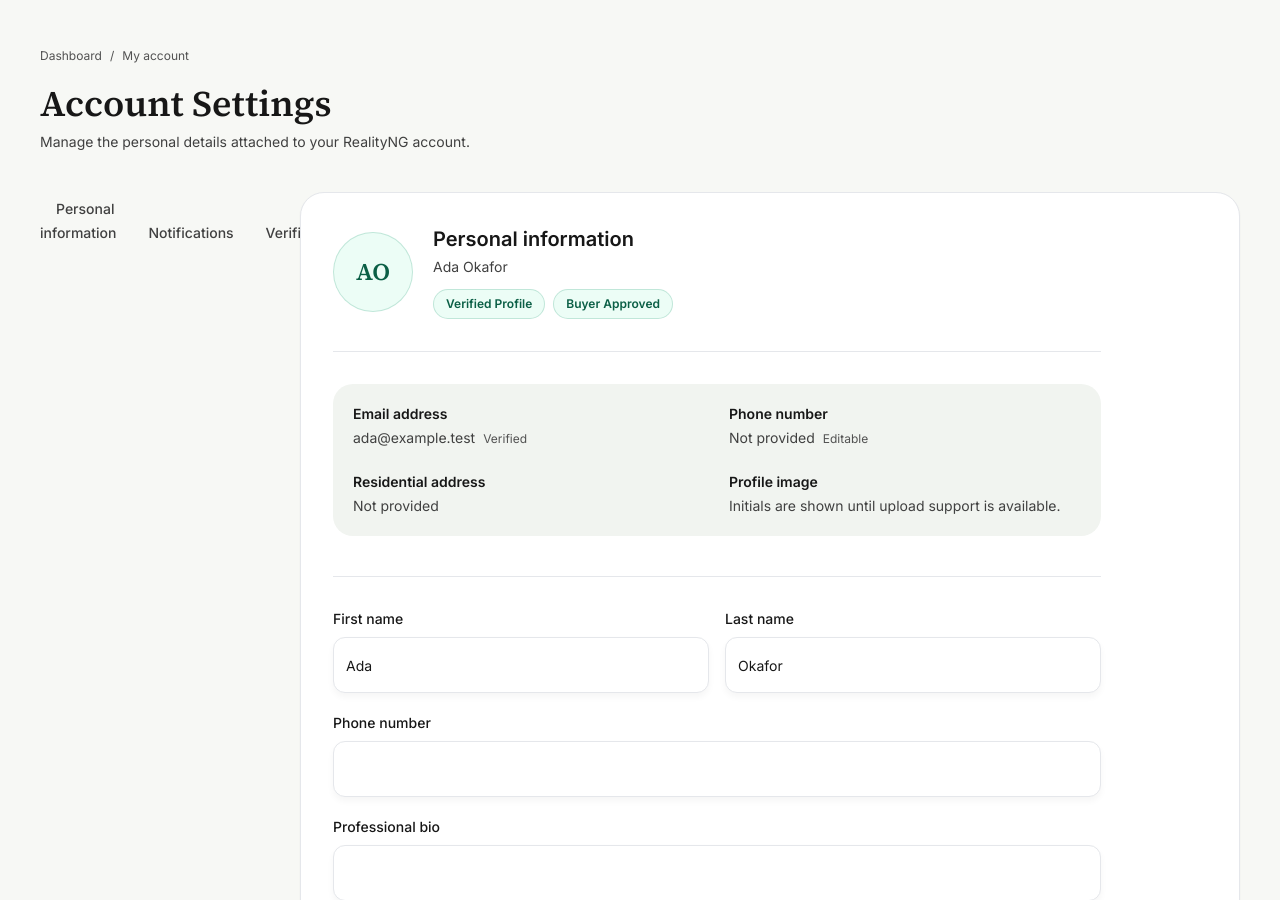
Scenario: ProfilePage › shows backend errors without discarding entered values
Type "+2348012345678" into the field labelled "Phone number".
click(717, 769); type("+2348012345678")  # box [333,741,1101,797]
(page scrolled)
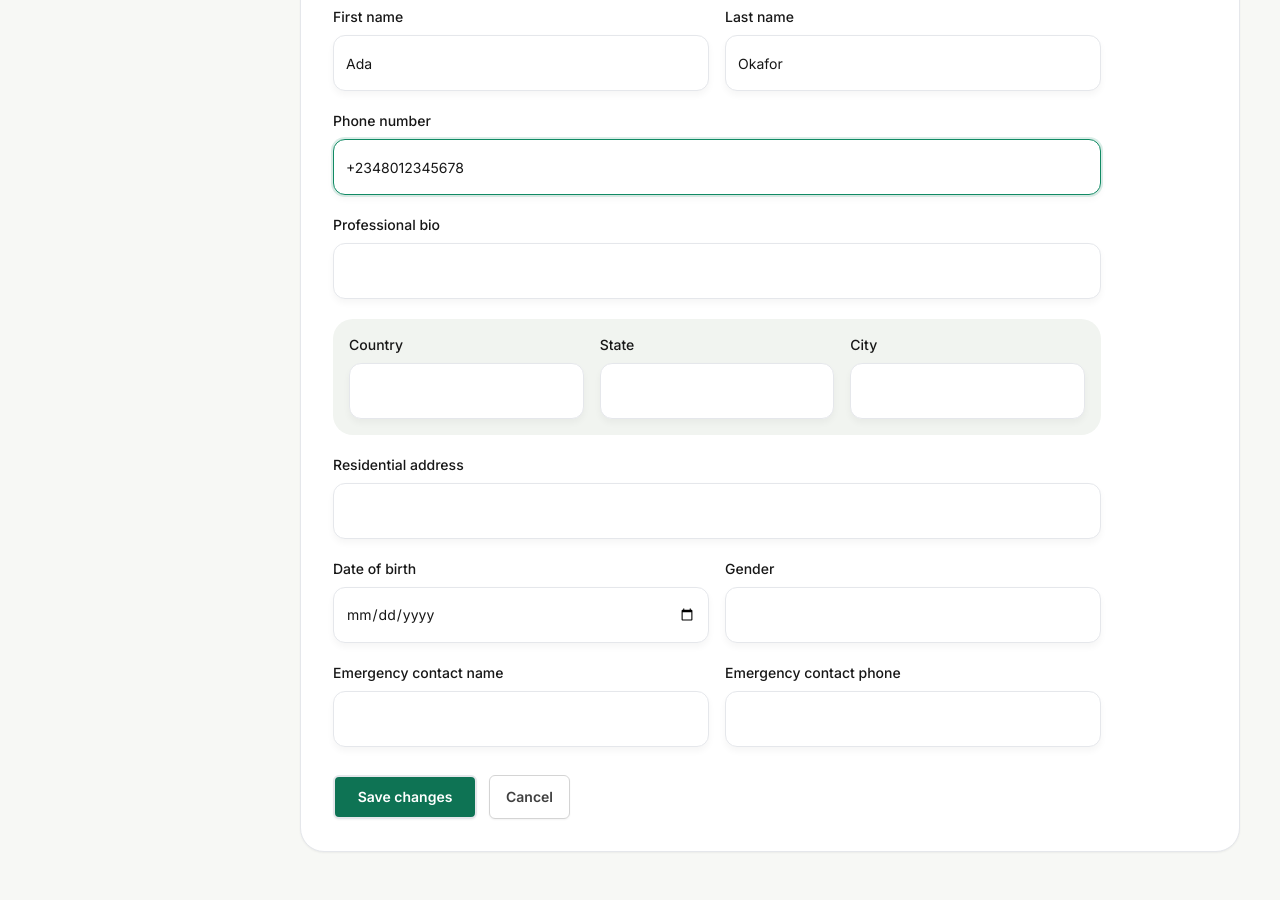
Click the button "Save changes".
click(405, 797)  # box [333,775,477,819]
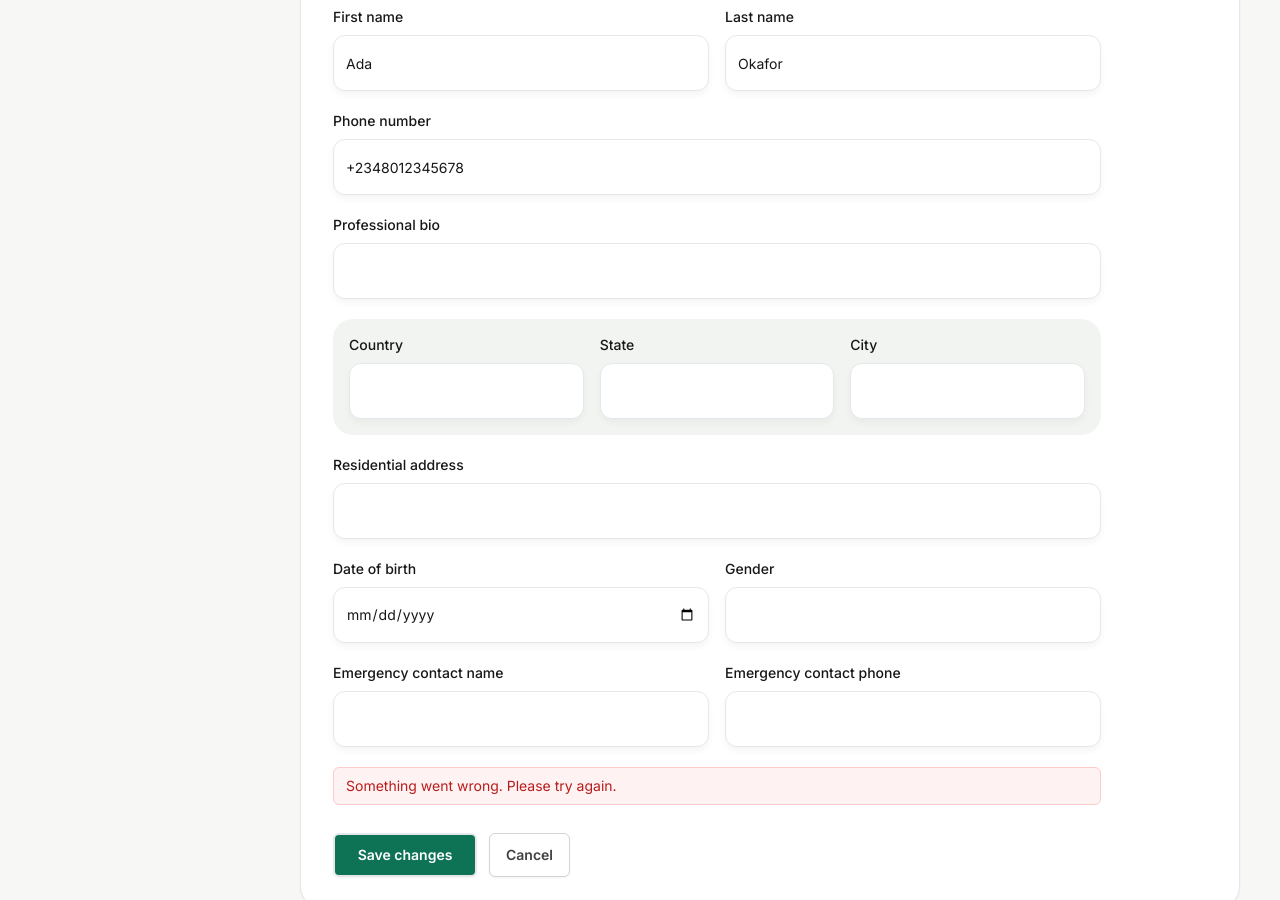
expect the text "Something went wrong. Please try again." is shown: met, box [333,767,1101,805]
